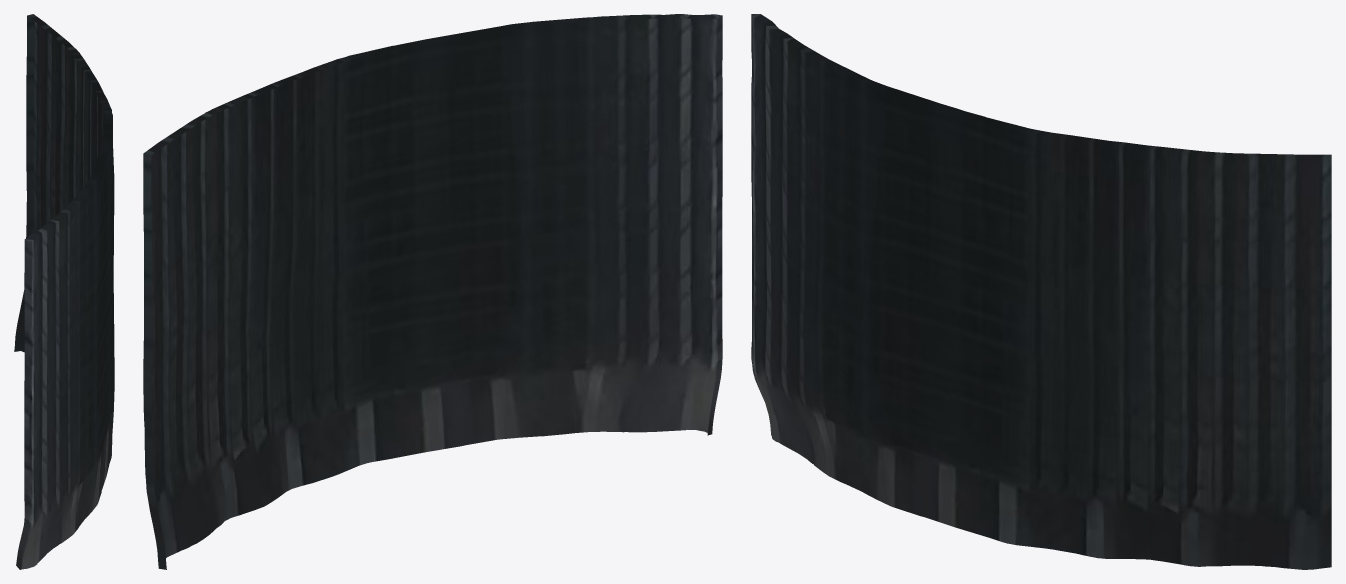
The model's file is z20-167778-405229-h1-yup-uvflip-v3-world.glb.
3 renders of one model, left to right at view 1: azimuth 30°, elevation 25°; view 2: azimuth 150°, elevation 25°; view 3: azimuth 270°, elevation 25°, orthographic. The views are drawn at different scales.
Bounding box in the file's own units: 17.32 × 23.24 × 29.36.
Materials: 1 (1 with a texture image).
